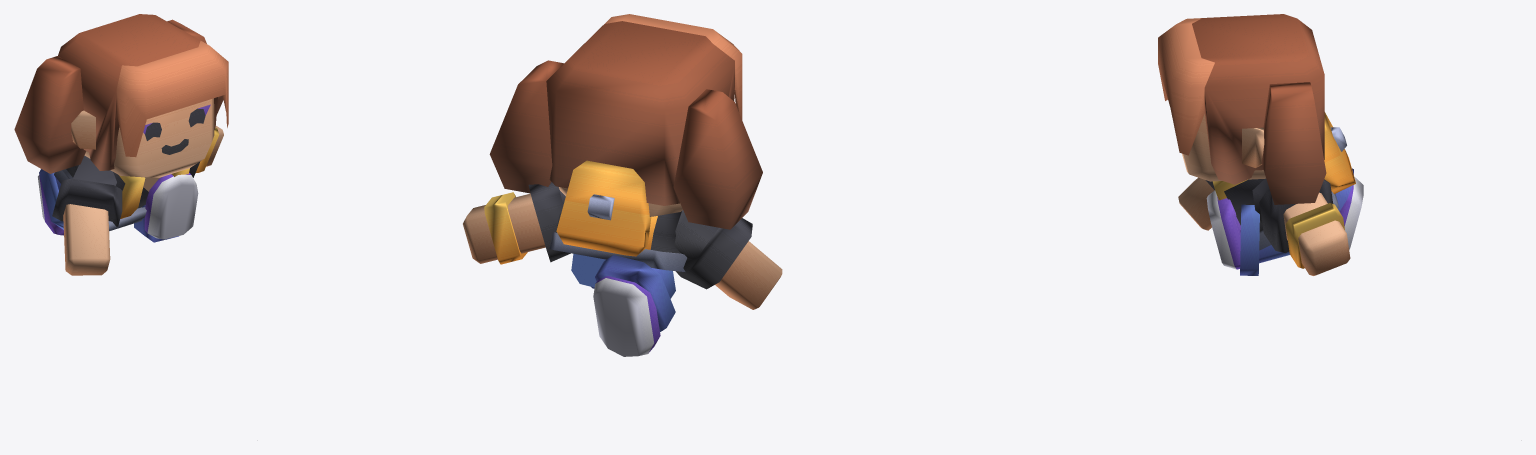
Rendered from climber_sprint_2.glb.
The picture shows the model from 3 angles, left to right: view 1: azimuth 30°, elevation 25°; view 2: azimuth 150°, elevation 25°; view 3: azimuth 270°, elevation 25°; orthographic projection. The views are drawn at different scales.
Parts seen in each view (by area): view 1: climber-sprint-2; view 2: climber-sprint-2; view 3: climber-sprint-2.
Part boxes in pixels (x1,y1,x2,y2): climber-sprint-2: (14,14,228,275); climber-sprint-2: (463,14,782,356); climber-sprint-2: (1158,14,1363,275).
Size of the model in its own units: 1.2 by 0.8128 by 1.2.
1 material, 1 textured.
